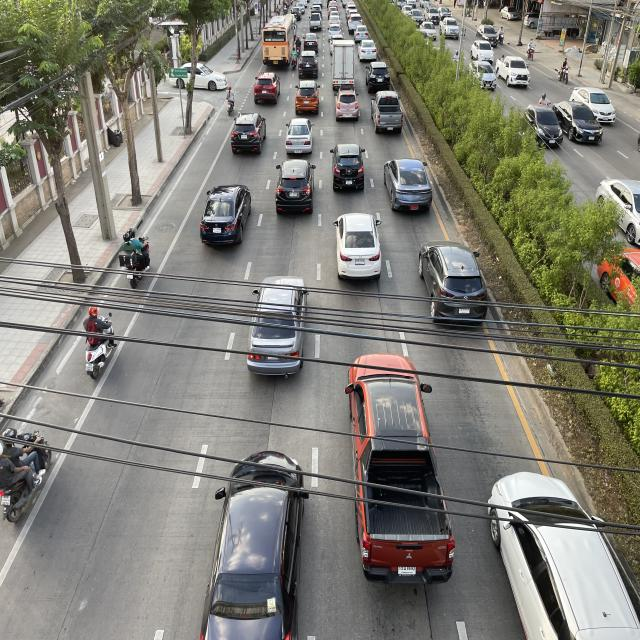bike: (0, 421, 54, 524), (82, 301, 116, 381), (118, 226, 154, 298), (226, 82, 235, 116)
bus: (248, 273, 310, 379), (262, 14, 296, 67)
car: (346, 345, 458, 589), (484, 465, 640, 640), (196, 444, 311, 639), (417, 239, 490, 328), (332, 211, 383, 283), (199, 182, 252, 250), (383, 157, 434, 218), (274, 159, 316, 217), (329, 141, 367, 196), (169, 60, 227, 90), (371, 88, 405, 136), (230, 113, 267, 155), (332, 88, 362, 124), (253, 71, 281, 105), (295, 80, 321, 116)
truck: (332, 38, 354, 90)
